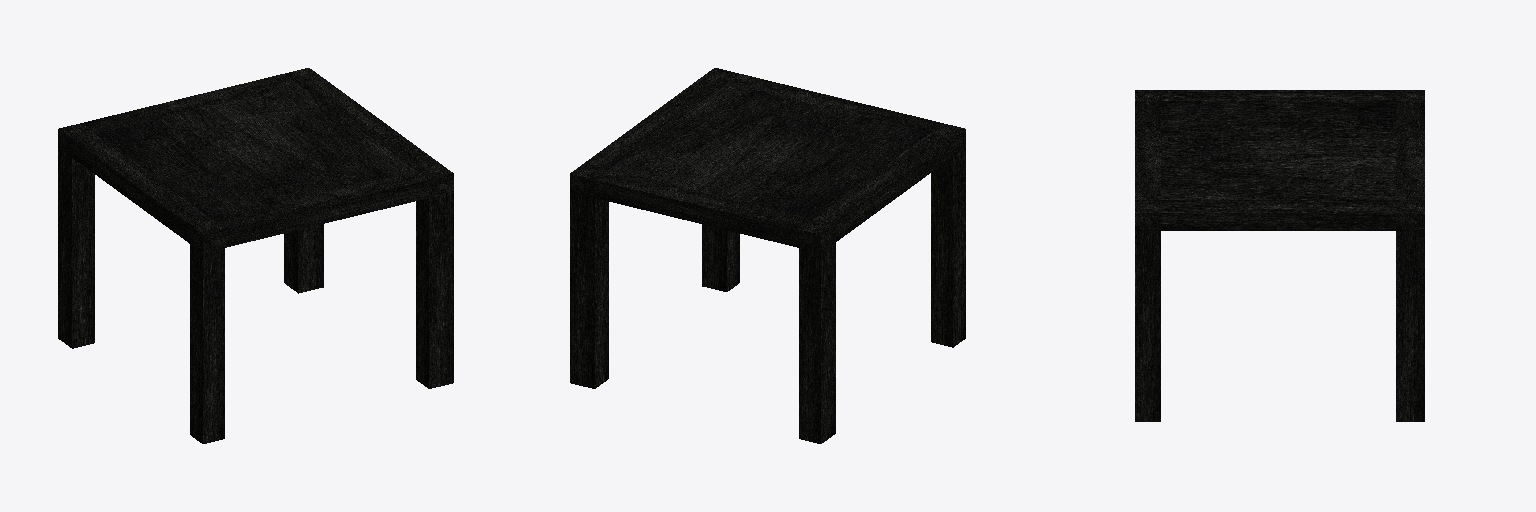
The picture shows the model from 3 angles: view 1: azimuth 30°, elevation 25°; view 2: azimuth 150°, elevation 25°; view 3: azimuth 270°, elevation 25°; orthographic projection.
Visible parts, largest first — view 1: Cube; view 2: Cube; view 3: Cube.
Part boxes in pixels (x1,y1,x2,y2): Cube: (58,68,453,443); Cube: (570,68,965,443); Cube: (1135,90,1424,421).
Size of the model in its own units: 1.41 by 1.12 by 1.41.
Materials: 1 (1 with a texture image).